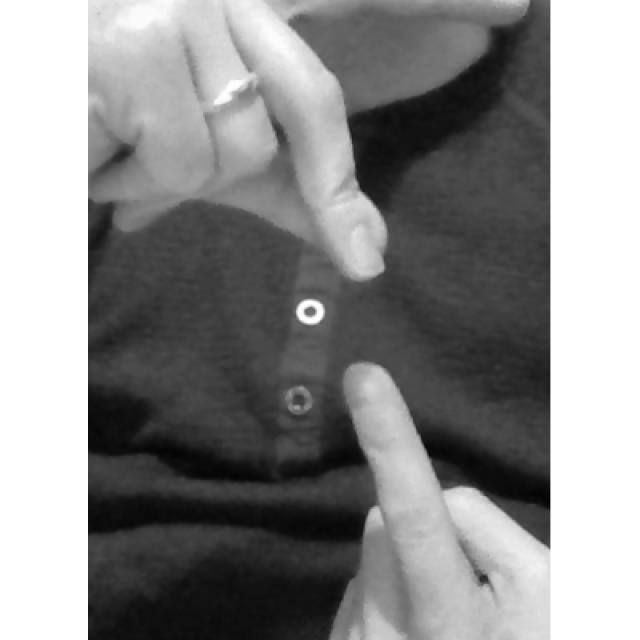I-: (90, 0, 550, 640)
